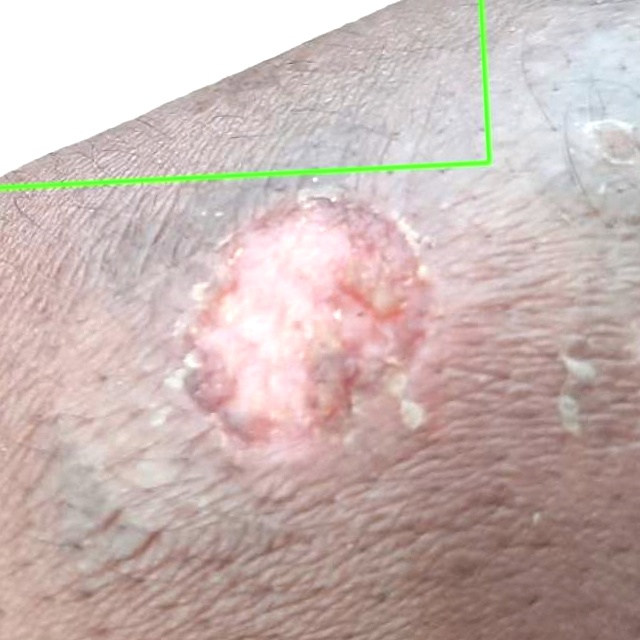Contact Dermatitis: (0, 0, 489, 187)
